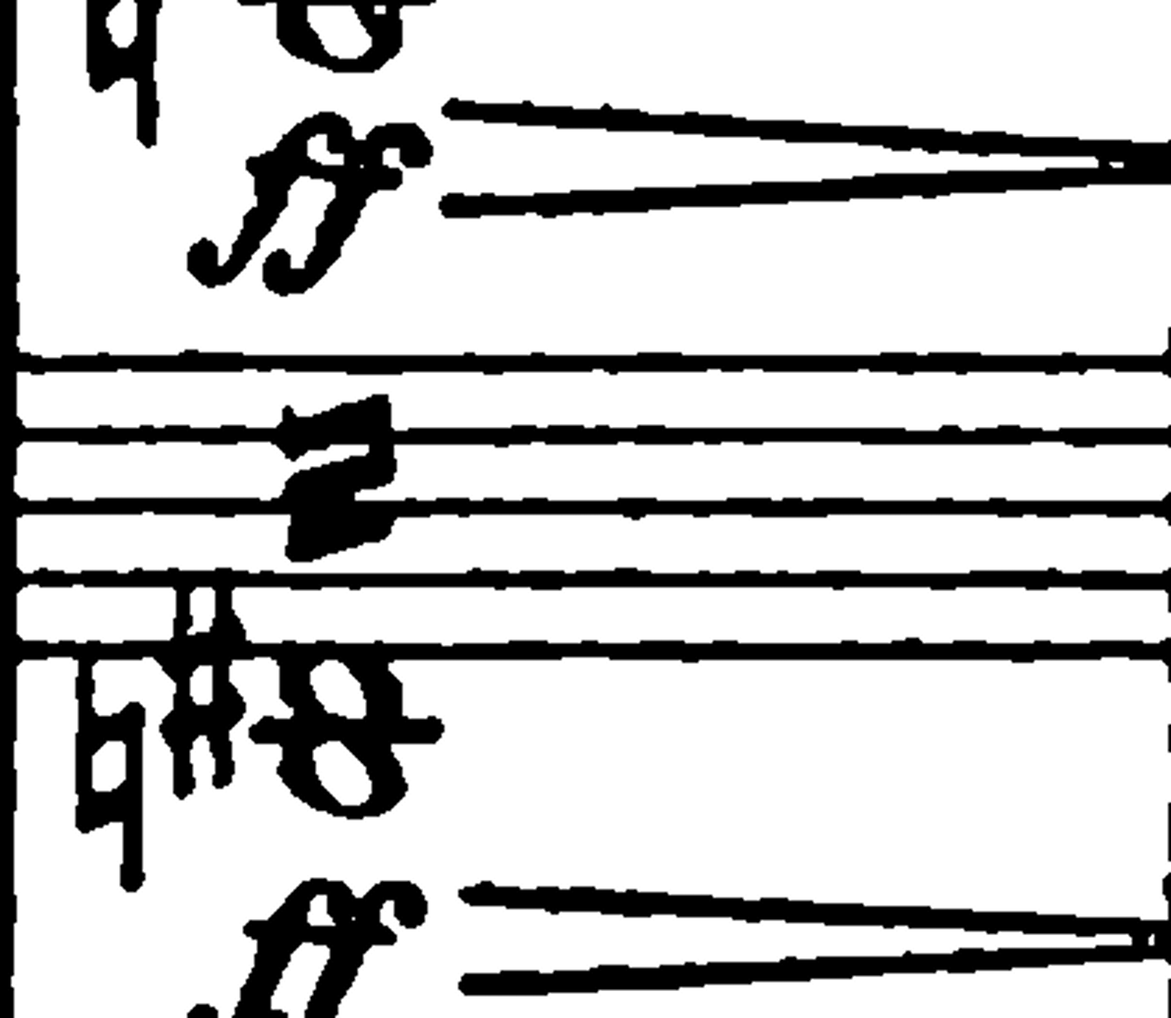accidentalNatural: (1167, 724, 1171, 765), (1167, 979, 1171, 1018)
noteheadBlackInSpace: (234, 996, 285, 1017), (278, 739, 316, 763), (305, 243, 341, 267), (286, 880, 316, 908), (285, 541, 324, 560), (263, 249, 290, 274), (231, 233, 259, 256), (376, 167, 402, 190), (277, 1, 306, 19), (304, 1003, 338, 1017), (363, 524, 391, 540), (135, 0, 161, 17), (243, 920, 266, 938), (187, 1004, 217, 1017), (310, 878, 327, 893)
noteheadBlackOnLine: (365, 771, 405, 814), (212, 691, 244, 737), (0, 567, 25, 606), (368, 753, 399, 784), (0, 415, 24, 453), (279, 683, 314, 709), (0, 633, 23, 670), (172, 591, 192, 632), (0, 492, 24, 526), (1154, 492, 1171, 522), (77, 640, 101, 659), (475, 881, 495, 901), (902, 637, 922, 651), (529, 352, 545, 368), (386, 0, 402, 13), (479, 193, 495, 205), (697, 570, 710, 582)
restHBar: (296, 173, 1156, 215), (249, 495, 1127, 520), (268, 637, 1127, 662), (460, 956, 1127, 988), (467, 896, 1171, 924)
restWhole: (77, 428, 129, 444), (201, 429, 238, 444), (1066, 432, 1095, 447), (623, 904, 652, 916), (482, 359, 503, 374), (896, 359, 914, 374), (997, 508, 1023, 517), (1011, 652, 1034, 662), (720, 363, 744, 371), (681, 655, 699, 662)
